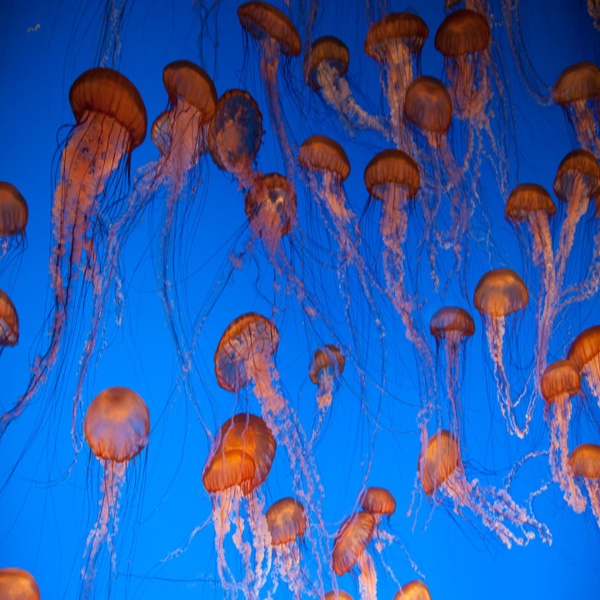Jellyfish: (0, 0, 599, 598), (480, 264, 535, 452)
